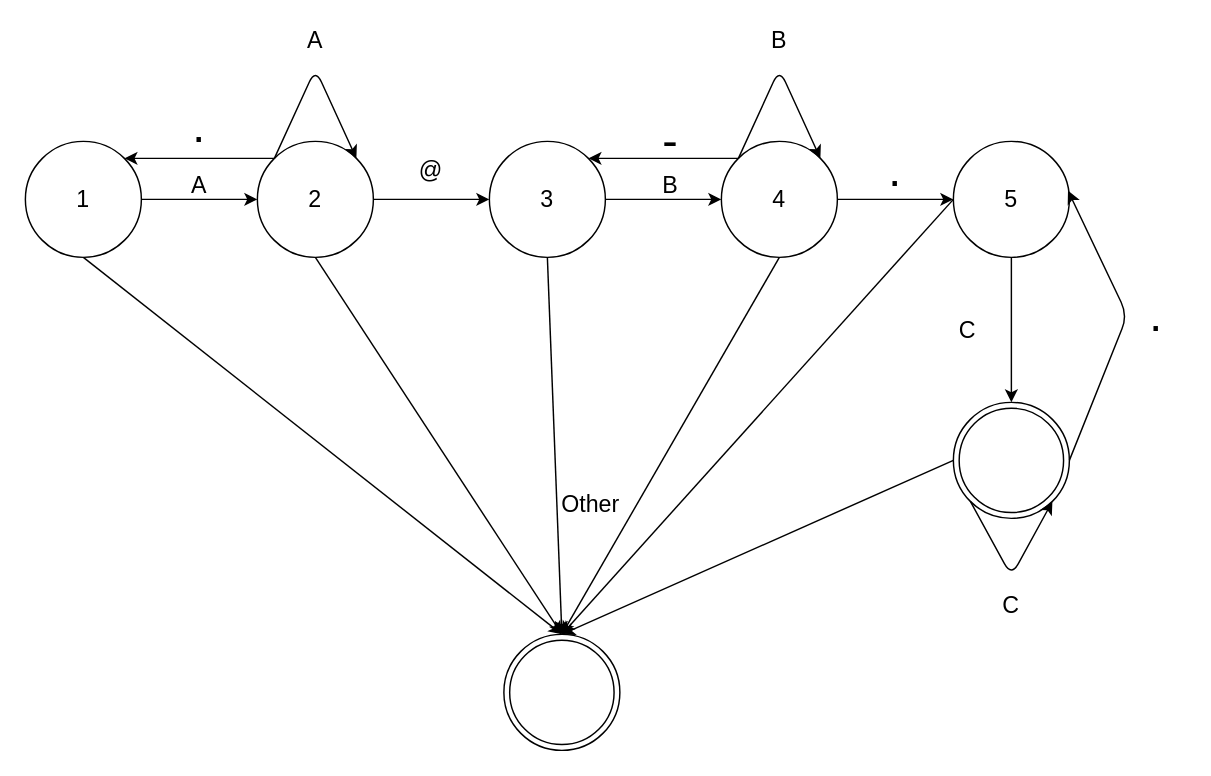
Some shapes in this 1211 by 776 pixel diagram are drawn without their labels. Here are the shapes that lost their labels. From the top down, the centre of each, then its label:
At point 1010,459: "6 (valid)".
At point 561,691: "Invalid".
